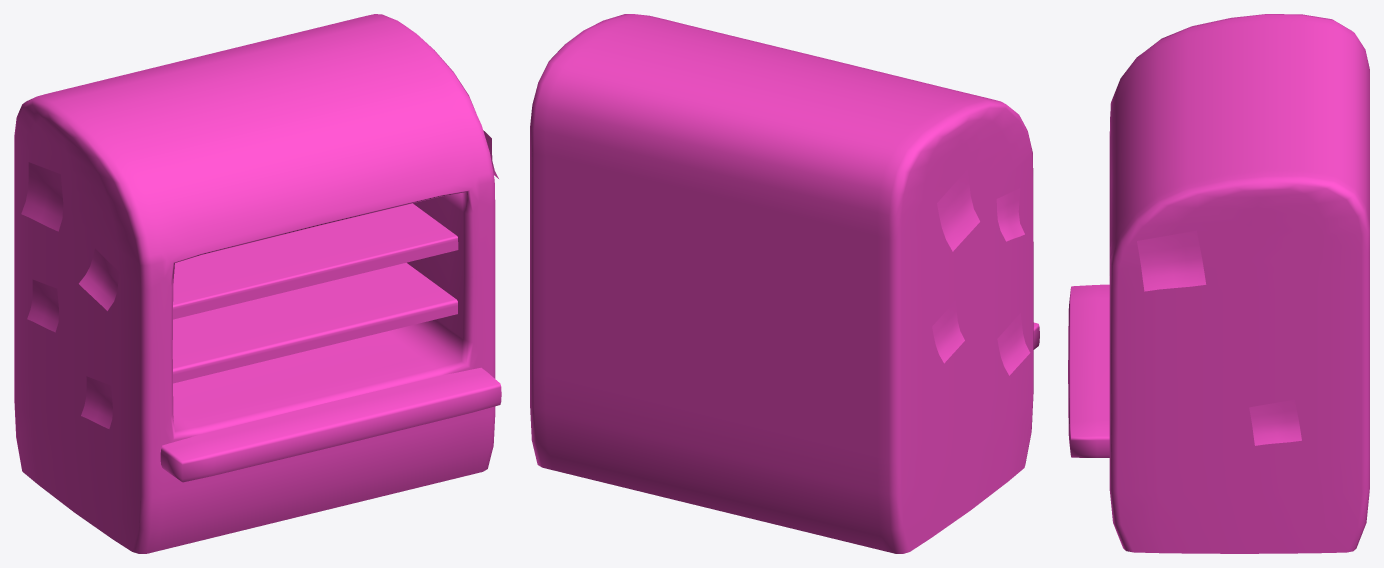
Rendered from ENV_HAU_BREADOVEN_MODEL.fbx.
3 renders of one model, left to right at view 1: azimuth 30°, elevation 25°; view 2: azimuth 150°, elevation 25°; view 3: azimuth 270°, elevation 25°, orthographic. The views are drawn at different scales.
Visible parts, largest first — view 1: polySurface495; view 2: polySurface495; view 3: polySurface495.
Part boxes in pixels (<box>): polySurface495: <box>14,14,501,553</box>; polySurface495: <box>530,14,1039,553</box>; polySurface495: <box>1068,14,1369,553</box>.
Size of the model in its own units: 212 by 198 by 145.
